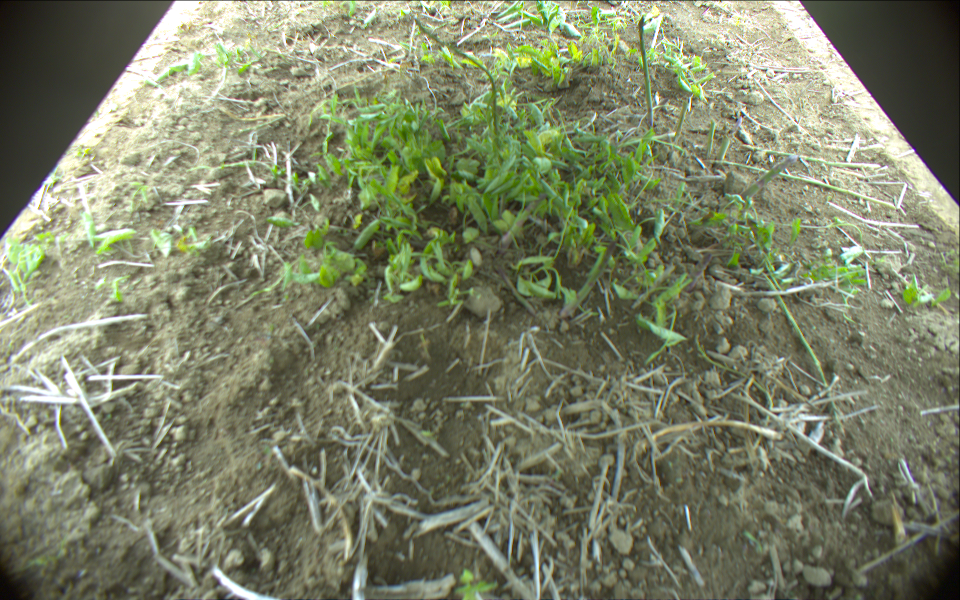aspa: (753, 254, 839, 422), (415, 18, 501, 152), (709, 156, 898, 209), (727, 155, 799, 216), (745, 143, 879, 168), (638, 16, 658, 147), (675, 99, 692, 143), (707, 113, 717, 153)
